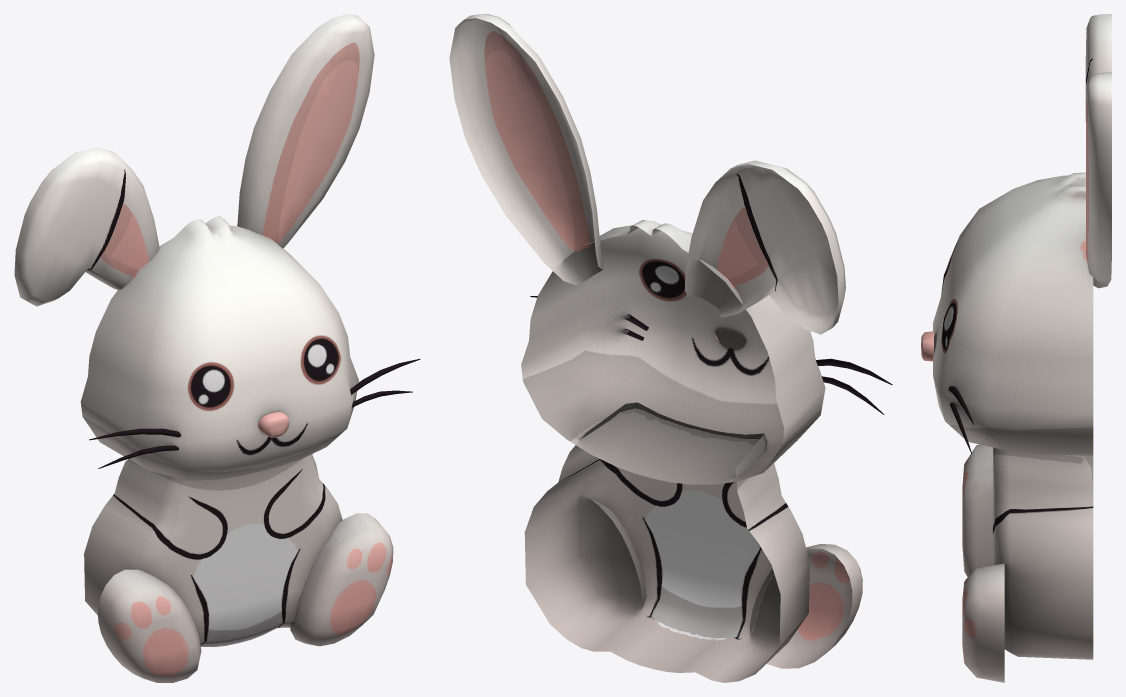
File: Kelinci_texture.fbx
3 renders of one model, left to right at view 1: azimuth 30°, elevation 25°; view 2: azimuth 150°, elevation 25°; view 3: azimuth 270°, elevation 25°, orthographic. The views are drawn at different scales.
Parts seen in each view (by area): view 1: Cube.001, Cube.002, Cube.004, Cube.009, Cube.008, NurbsPath.001, Cube.010; view 2: Cube.001, Cube.002, Cube.004, Cube.008, Cube.009, NurbsPath.001; view 3: Cube.001, Cube.002, Cube.009, Cube.004, Cube.008, NurbsPath.001, Cube.010.
Part boxes in pixels (<box>): Cube.001: <box>80,215,358,480</box>; Cube.002: <box>84,454,342,646</box>; Cube.004: <box>237,14,374,248</box>; Cube.009: <box>98,513,393,682</box>; Cube.008: <box>14,147,159,306</box>; NurbsPath.001: <box>89,359,420,468</box>; Cube.010: <box>258,412,289,437</box>; Cube.001: <box>521,220,825,484</box>; Cube.002: <box>524,402,809,682</box>; Cube.004: <box>449,14,602,285</box>; Cube.008: <box>684,160,845,334</box>; Cube.009: <box>591,499,862,668</box>; NurbsPath.001: <box>530,296,892,414</box>; Cube.001: <box>933,172,1093,455</box>; Cube.002: <box>993,447,1093,659</box>; Cube.009: <box>962,444,1004,682</box>; Cube.004: <box>1086,72,1111,288</box>; Cube.008: <box>1085,14,1111,121</box>; NurbsPath.001: <box>949,386,973,453</box>; Cube.010: <box>921,331,933,361</box>.
Size of the model in its own units: 313 by 483 by 131.
